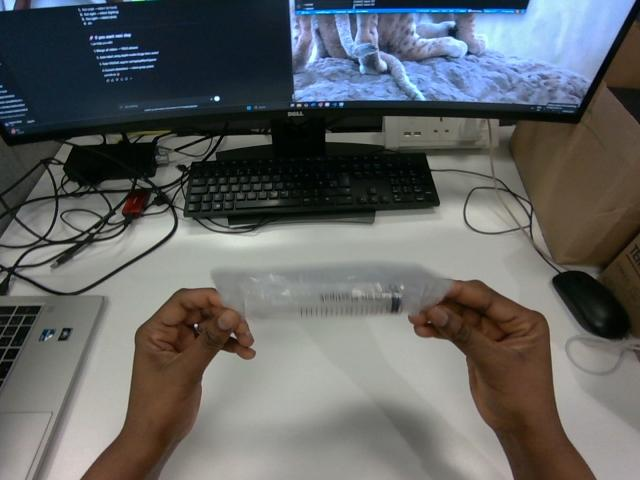syringe: (212, 263, 450, 319)
